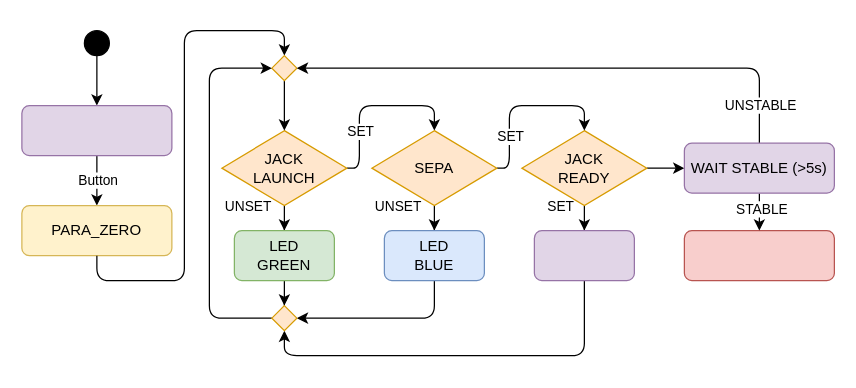
Image size: 856x388. Some labels were removed from this diagram. The centre of each missing label's shape, as x and y in pixels:
GO FOR LAUNCH: the point at 758,255
LED MAGENTA: the point at 583,255
WAIT_JACK_READY: the point at 96,130
